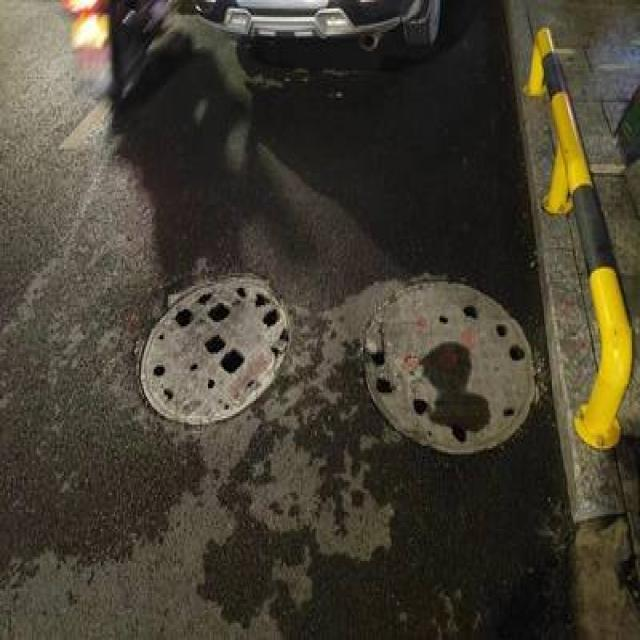manhole: (123, 260, 291, 427)
